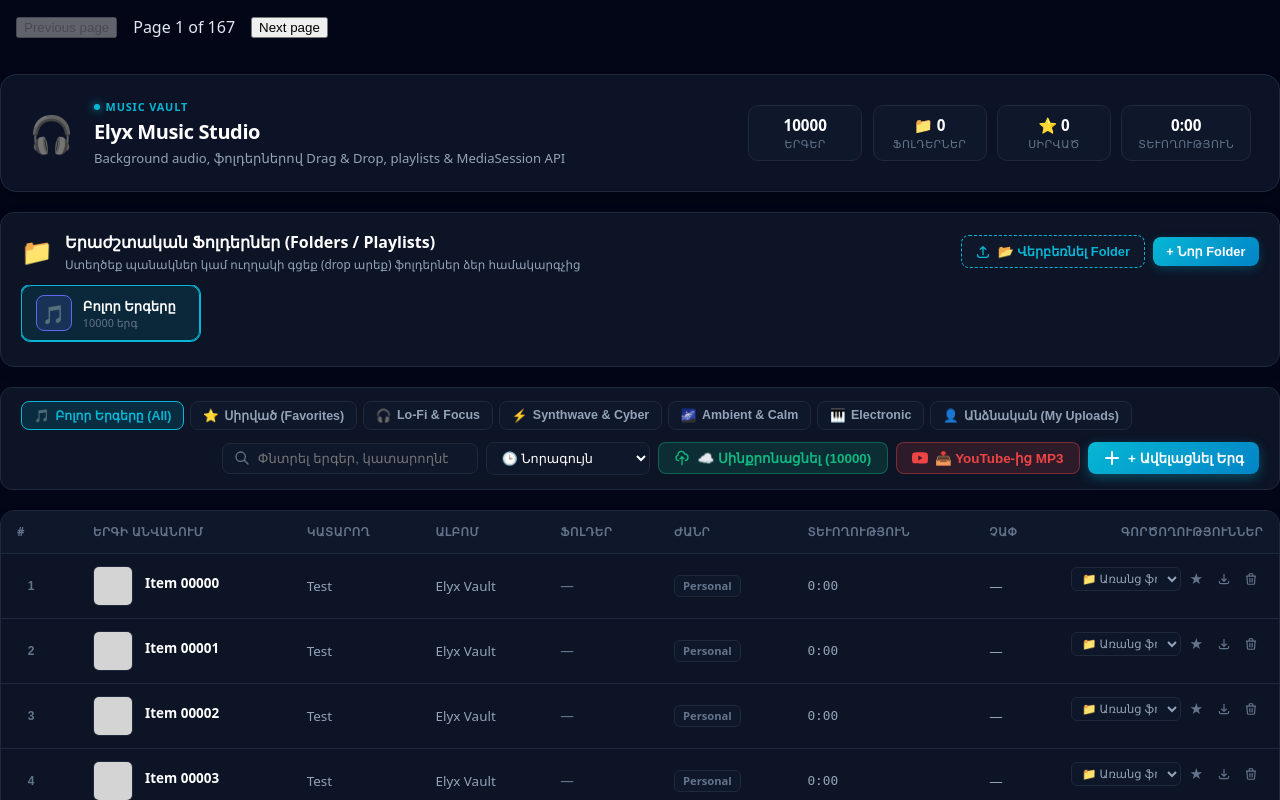
10,000 music tracks render only 60 rows per page and can reach later items
Expected: the text "Item 00000" is shown, [145,574,219,592]
Expected: the text "Item 00060" is not shown
What coordinates should you click on to do the following:
click the button "Next page"
I would click on:
 (289, 27)
Its box is [251,16,328,38].
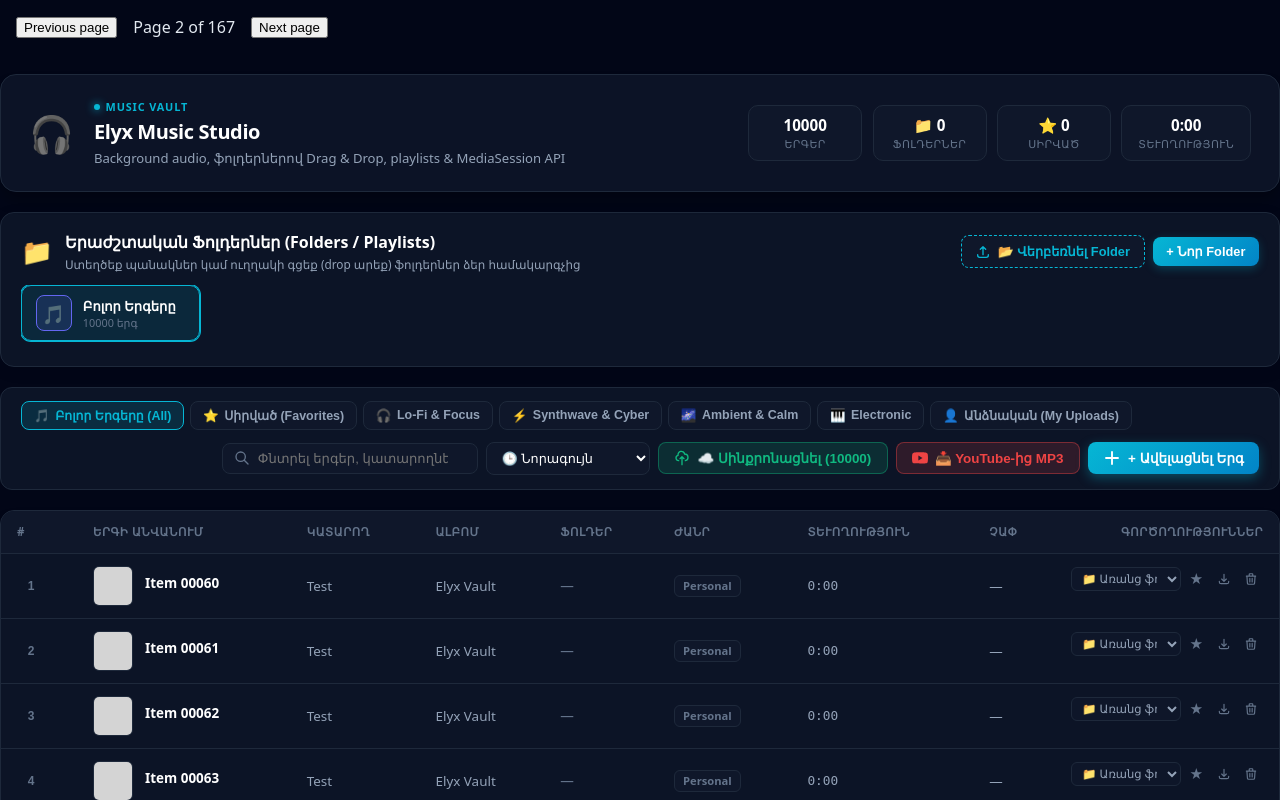
Result: the text "Item 00060" is shown at [145,574,219,592]
